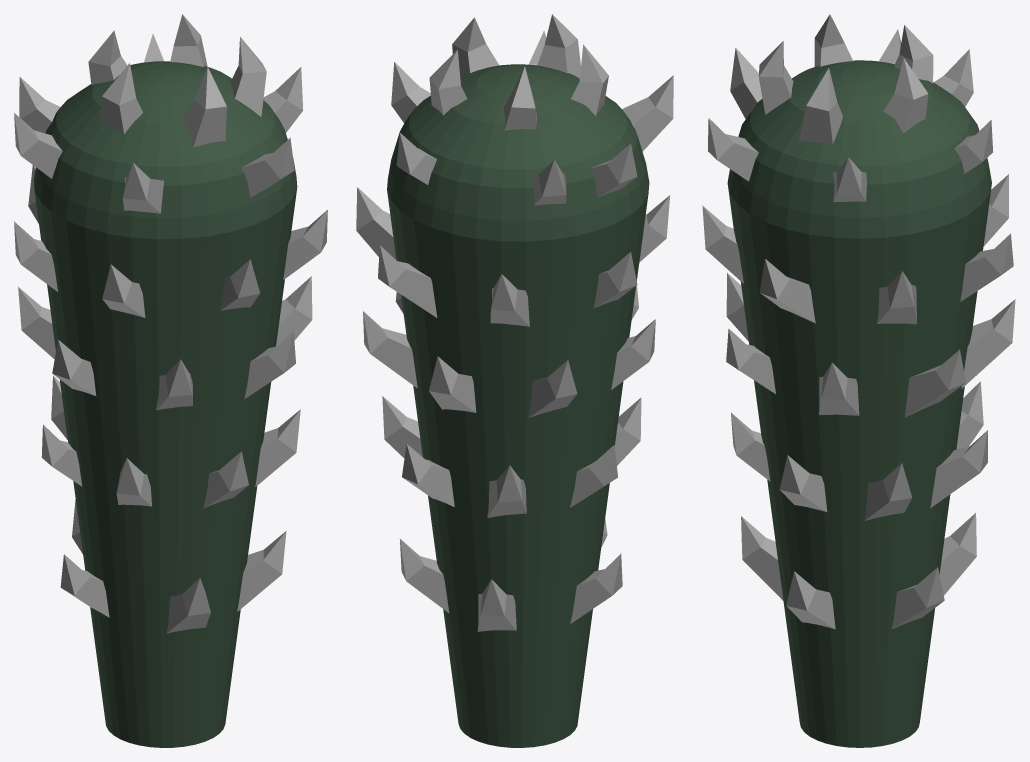
The model's file is dusman3.fbx.
3 renders of one model, left to right at view 1: azimuth 30°, elevation 25°; view 2: azimuth 150°, elevation 25°; view 3: azimuth 270°, elevation 25°, orthographic.
Visible parts, largest first — view 1: Cylinder; view 2: Cylinder; view 3: Cylinder.
Boxes of the visible parts, bbox=[...] form: Cylinder: bbox=[14, 14, 327, 747]; Cylinder: bbox=[356, 14, 673, 747]; Cylinder: bbox=[702, 14, 1015, 747].
Size of the model in its own units: 144 by 344 by 143.
